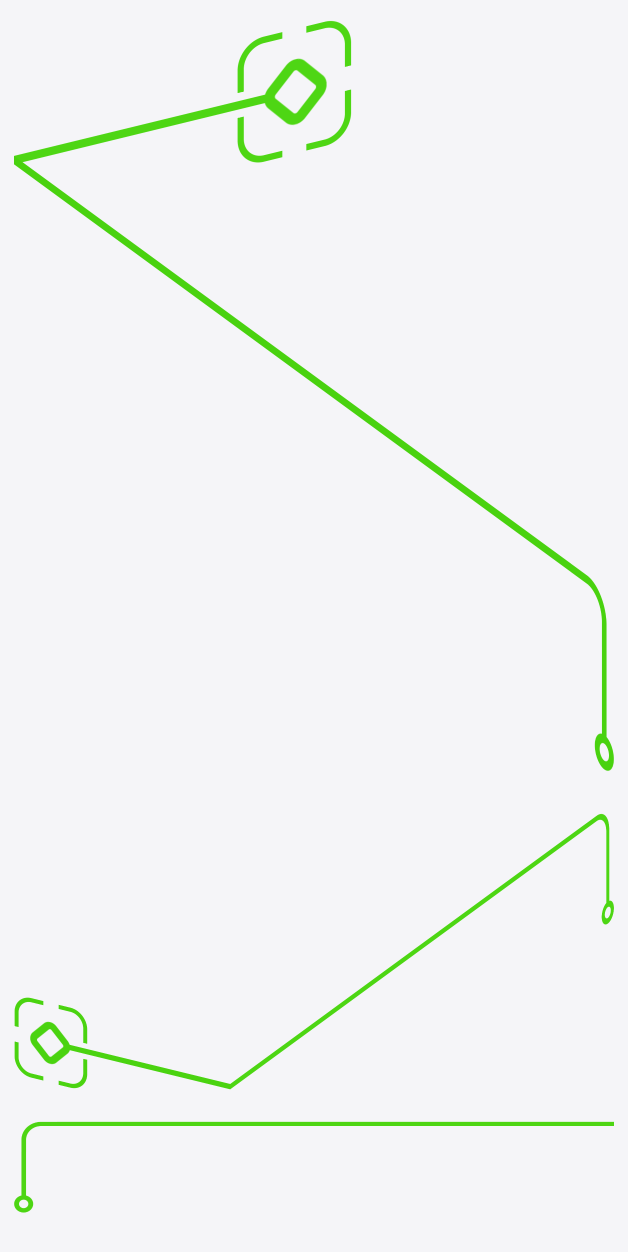
File: 11_3_cl_active.glb
The picture shows the model from 3 angles, top to bottom: view 1: azimuth 30°, elevation 25°; view 2: azimuth 150°, elevation 25°; view 3: azimuth 270°, elevation 25°; orthographic projection. The views are drawn at different scales.
Visible parts, largest first — view 1: 11_3_cl_active; view 2: 11_3_cl_active; view 3: 11_3_cl_active.
Part boxes in pixels (x1,y1,x2,y2): 11_3_cl_active: [14, 21, 613, 770]; 11_3_cl_active: [14, 814, 613, 1088]; 11_3_cl_active: [14, 1121, 613, 1212].
Size of the model in its own units: 3.3 by 2.25 by 10.15.
1 material, 1 textured.
